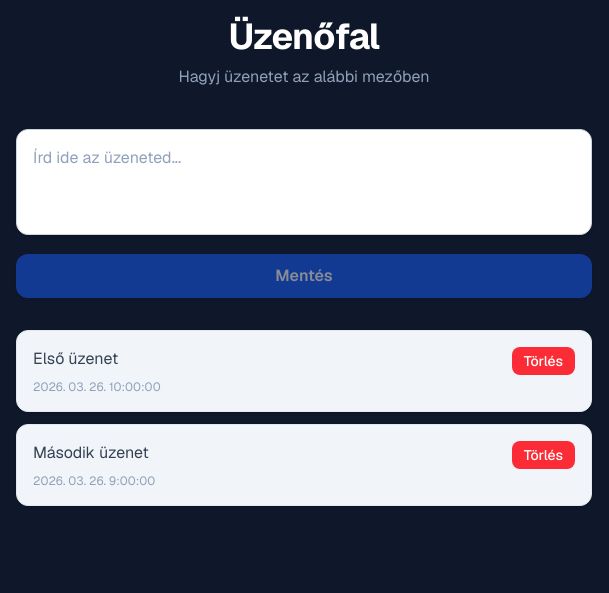
Scenario: Üzenőfal › shows error message when delete fails
Expected: the text "Első üzenet" is shown, left=33, top=348, right=118, bottom=369
Click the button "Törlés" in the row of "Első üzenet" at (543, 361), box left=512, top=347, right=575, bottom=375
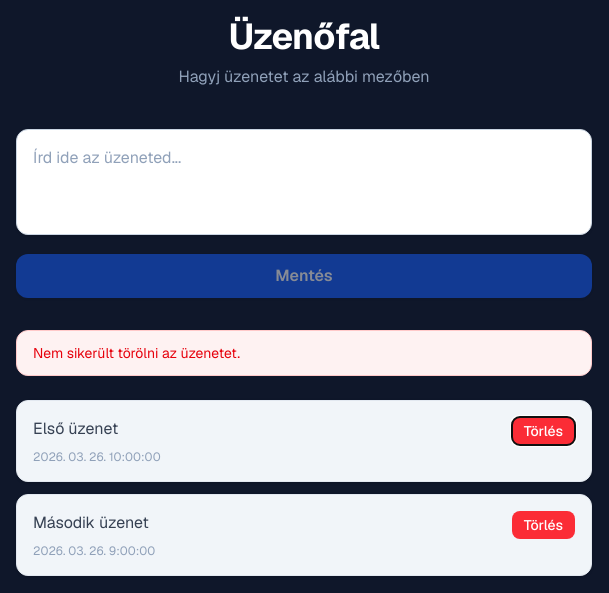
Now the text "Nem sikerült törölni az üzenetet." is shown, box left=16, top=330, right=592, bottom=376
